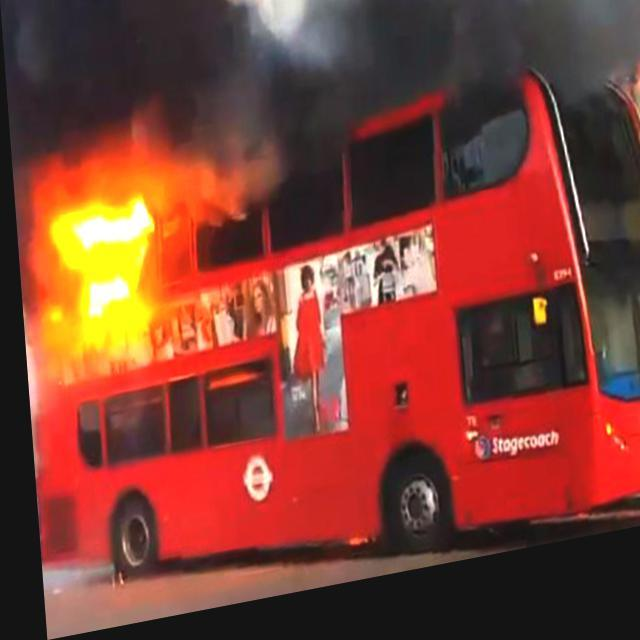Fire: (27, 176, 186, 338)
